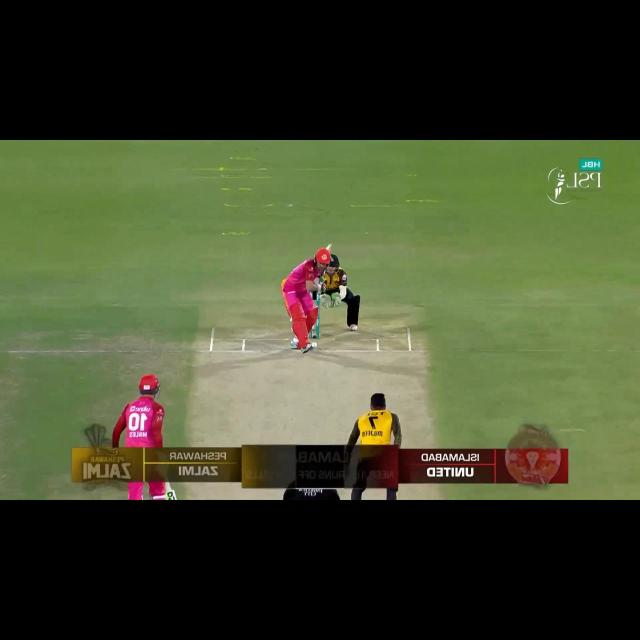bat: (162, 484, 177, 501), (322, 268, 327, 278)
toe: (322, 244, 334, 252)
